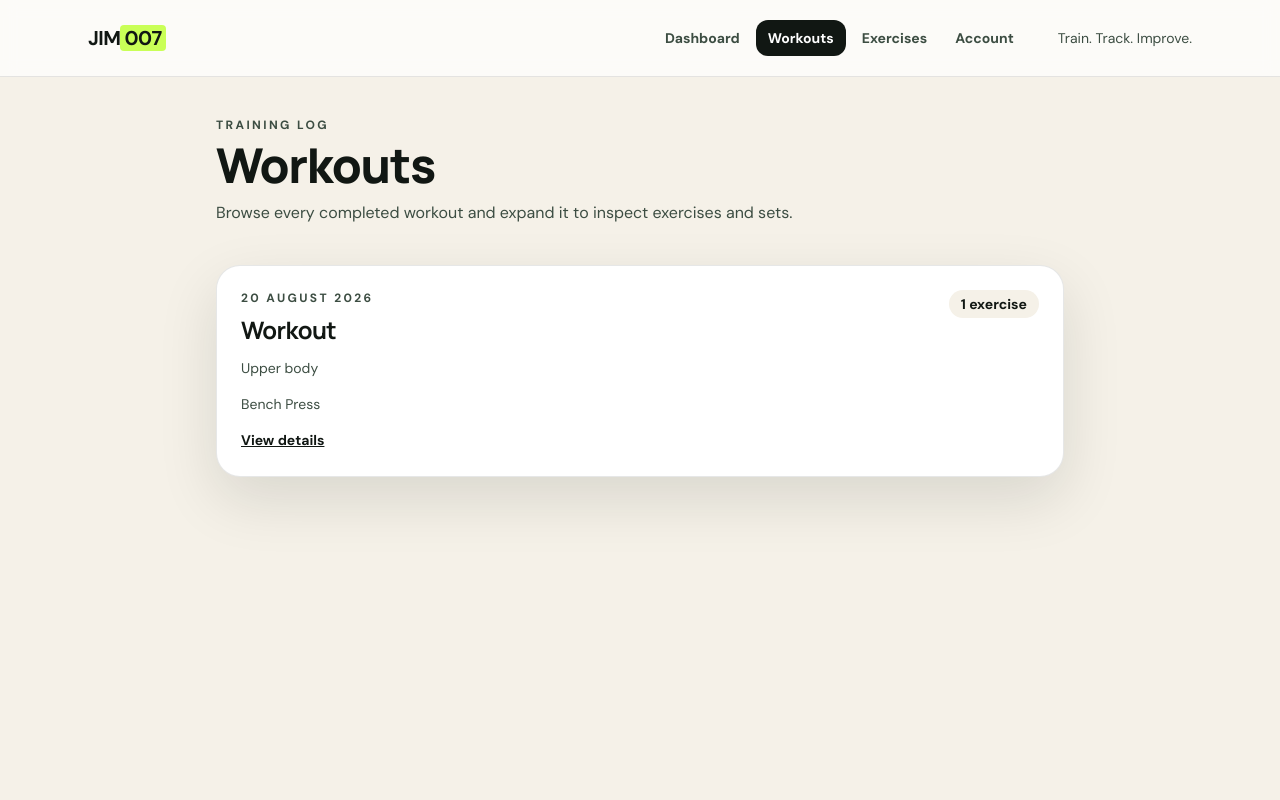
authentication and optional integrations › expands a workout and links to exercise history
Click the button "View details".
click(307, 298)  # box [241,290,1039,452]
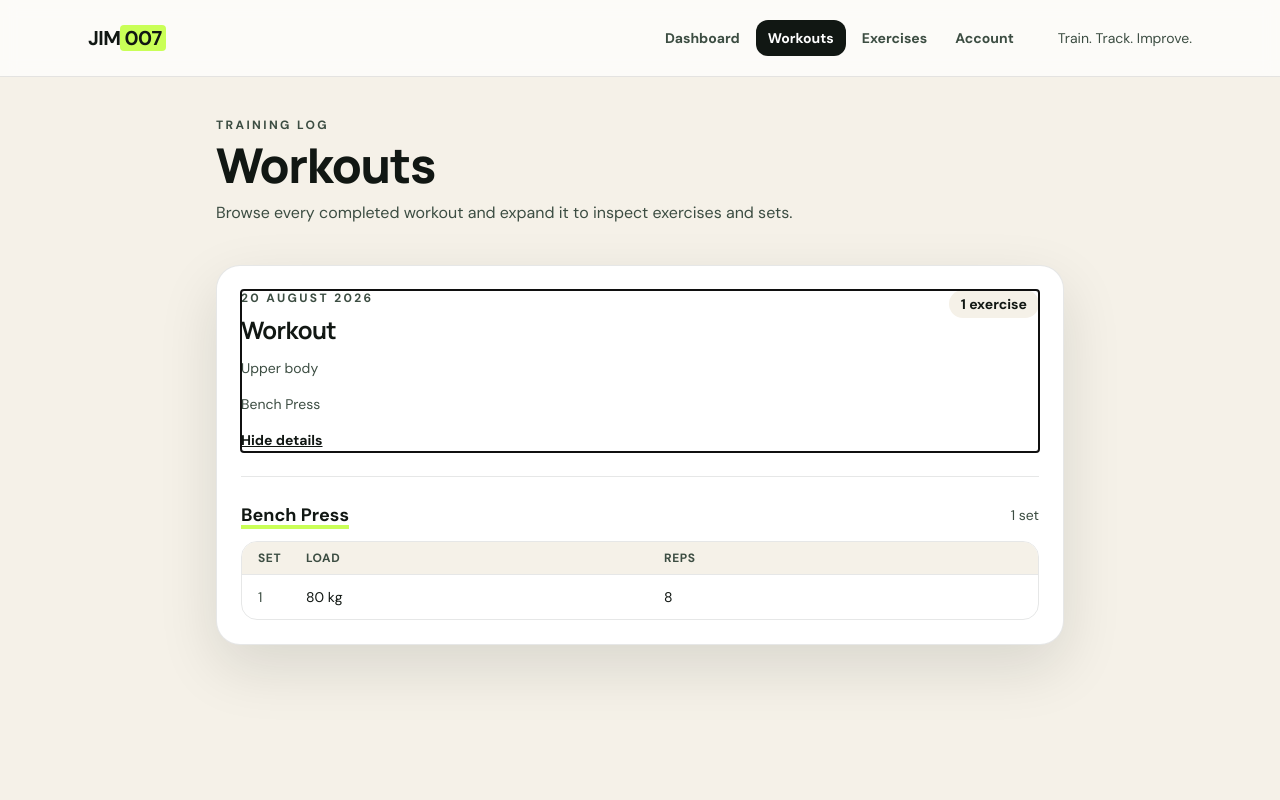
Now the text "80 kg" is shown, box [306,588,343,606]
